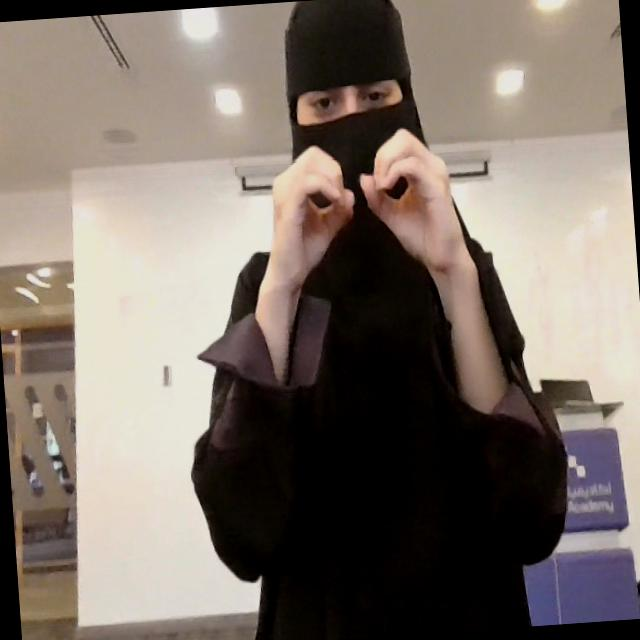analysis: (252, 120, 473, 277)
